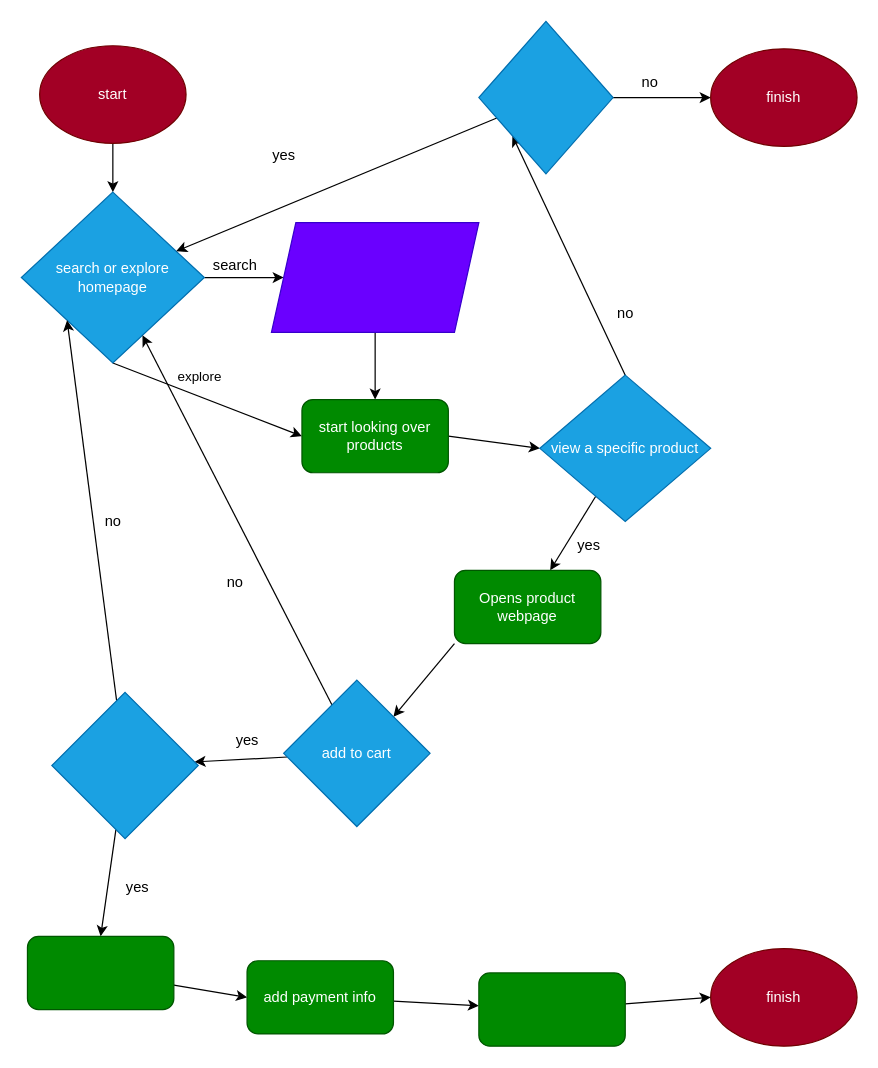
Image size: 878x1068. Some labels were removed from this diagram. The box of each missing label's shape, as (x1, y1, x2, y2) in pixels:
checkout: (51, 691, 198, 839)
continue shopping: (478, 20, 613, 174)
get confirmation screen: (478, 972, 625, 1046)
user inputs search: (270, 221, 479, 332)
view cart screen: (26, 935, 174, 1010)
